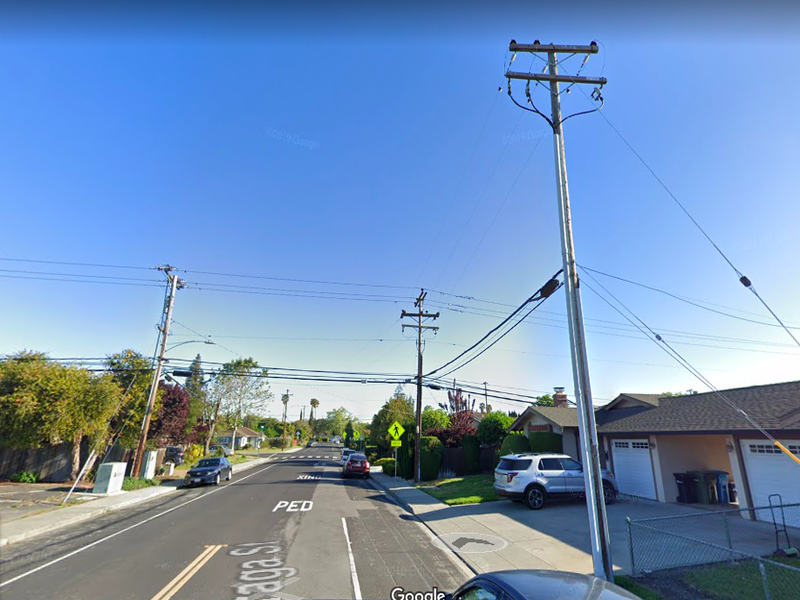utility_pole: (490, 29, 616, 141), (141, 255, 197, 328), (397, 283, 445, 354)
